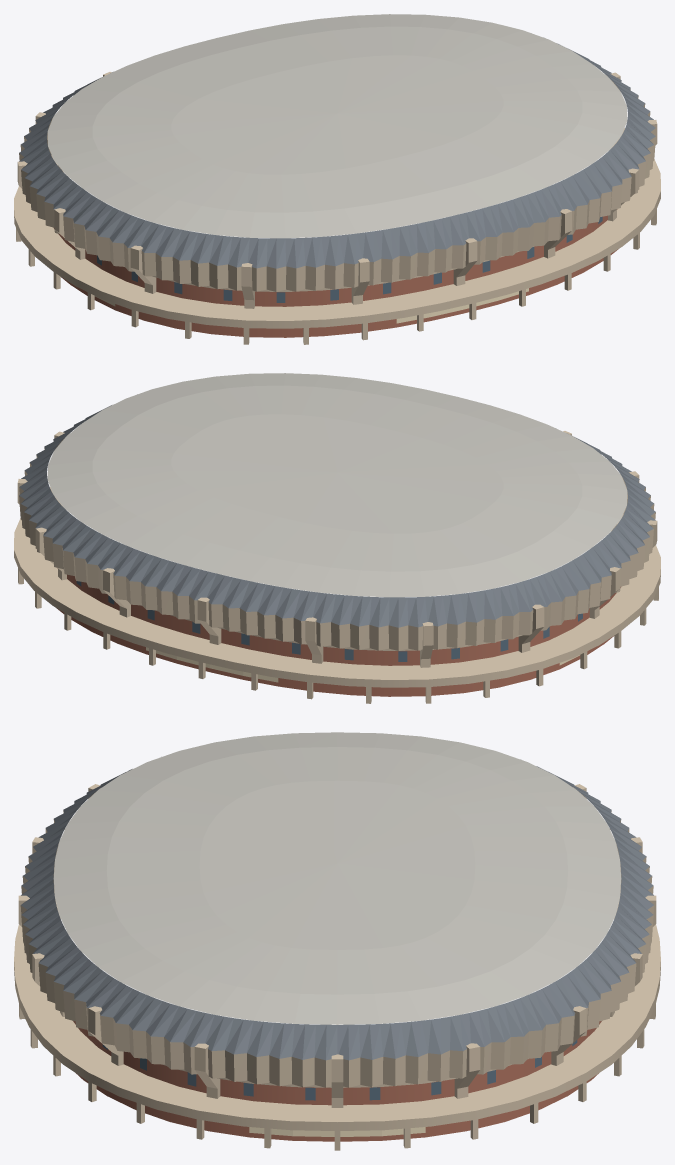
The model's file is phx-desert-financial-arena.glb.
The picture shows the model from 3 angles, top to bottom: view 1: azimuth 30°, elevation 25°; view 2: azimuth 150°, elevation 25°; view 3: azimuth 270°, elevation 25°; orthographic projection. The views are drawn at different scales.
Visible parts, largest first — view 1: Desert Financial Arena; view 2: Desert Financial Arena; view 3: Desert Financial Arena.
Boxes of the visible parts, <box> form: Desert Financial Arena: <box>14,14,660,344</box>; Desert Financial Arena: <box>14,373,660,703</box>; Desert Financial Arena: <box>14,732,660,1150</box>.
Size of the model in its own units: 116 by 20.8 by 97.6.
